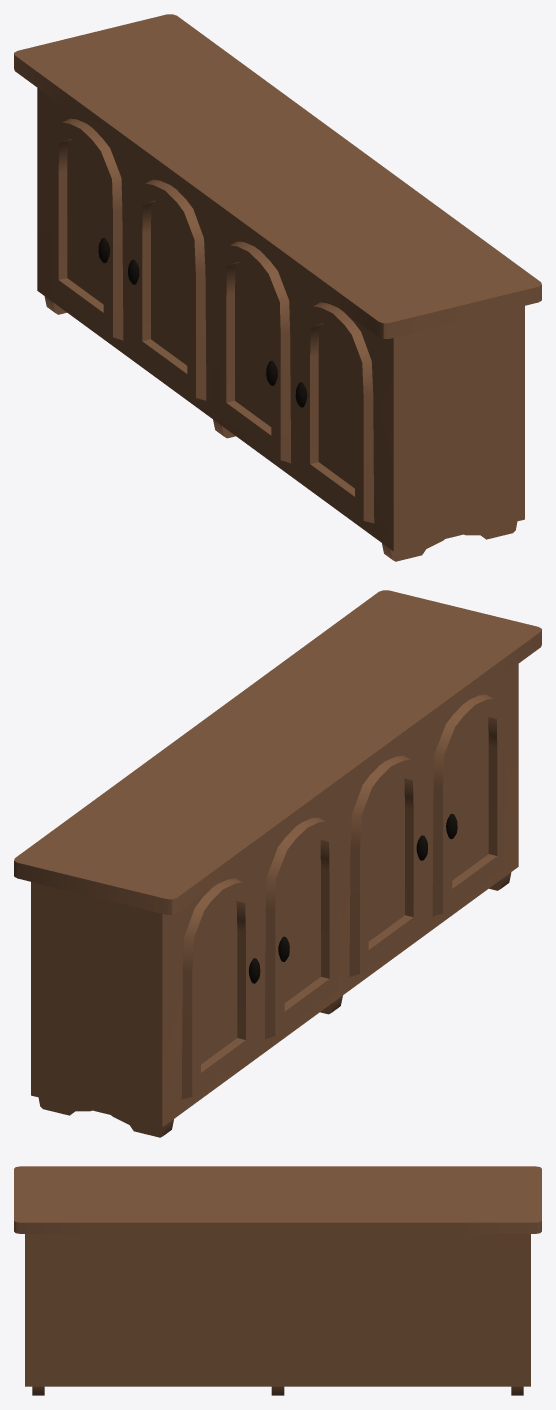
File: 079_cupboard_var2.glb
3 views of the same model, one above another, from view 1: azimuth 30°, elevation 25°; view 2: azimuth 150°, elevation 25°; view 3: azimuth 270°, elevation 25° (orthographic). The views are drawn at different scales.
Visible parts, largest first — view 1: table; view 2: table; view 3: table.
Part boxes in pixels (x1=…): table: x1=14, y1=14, x2=541, y2=561; table: x1=14, y1=590, x2=541, y2=1137; table: x1=14, y1=1166, x2=541, y2=1395.
Bounding box in the file's own units: 0.7553 × 1.12 × 3.
